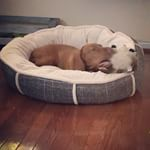puppy: (23, 41, 115, 72)
